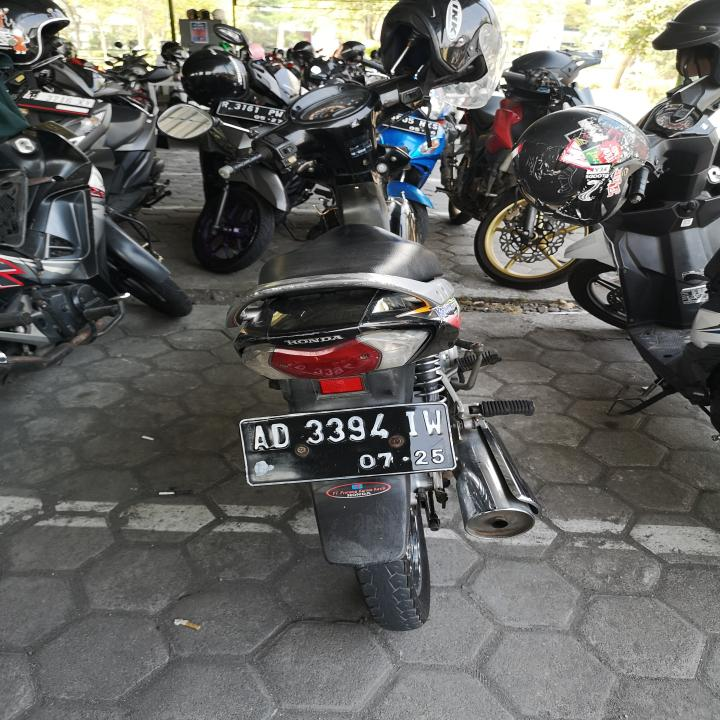plate: (237, 398, 462, 490), (217, 98, 287, 125), (380, 112, 440, 137)
